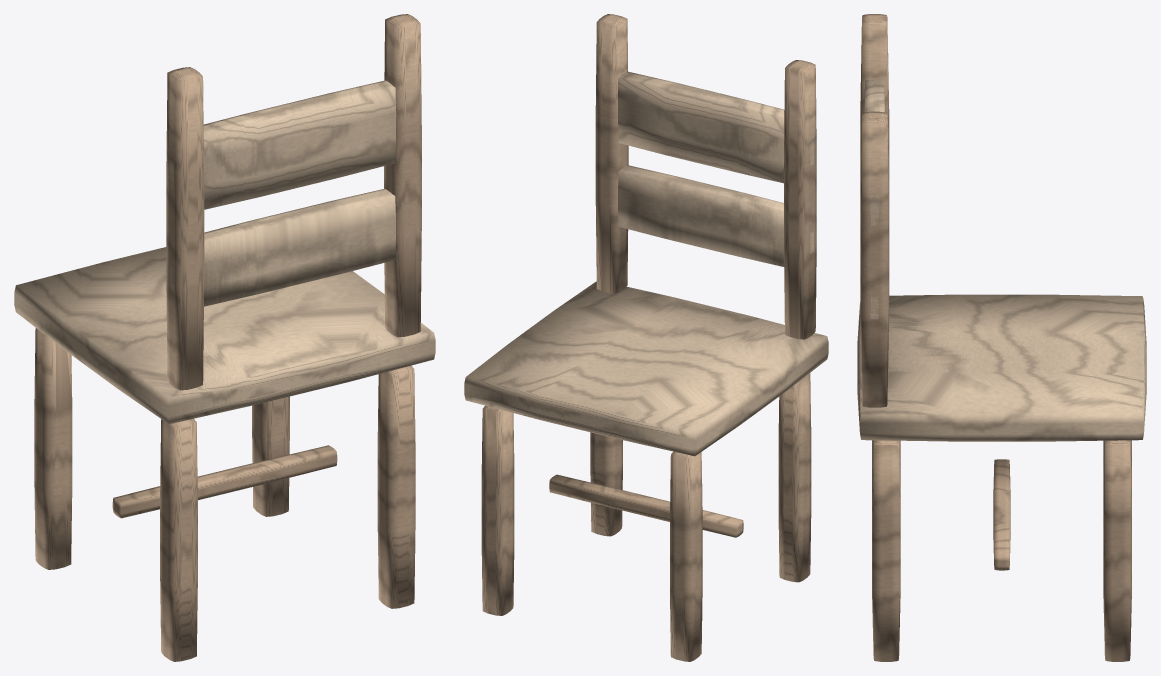
Rendered from chair.glb.
The picture shows the model from 3 angles, left to right: view 1: azimuth 30°, elevation 25°; view 2: azimuth 150°, elevation 25°; view 3: azimuth 270°, elevation 25°; orthographic projection. The views are drawn at different scales.
Visible parts, largest first — view 1: chair_body; view 2: chair_body; view 3: chair_body.
Boxes of the visible parts, box(x1,y1,x2,y2) form: chair_body: box(14, 14, 435, 661); chair_body: box(464, 14, 828, 661); chair_body: box(857, 14, 1146, 661).
Size of the model in its own units: 0.5 by 1.03 by 0.5.
Materials: 2 (2 with a texture image).
